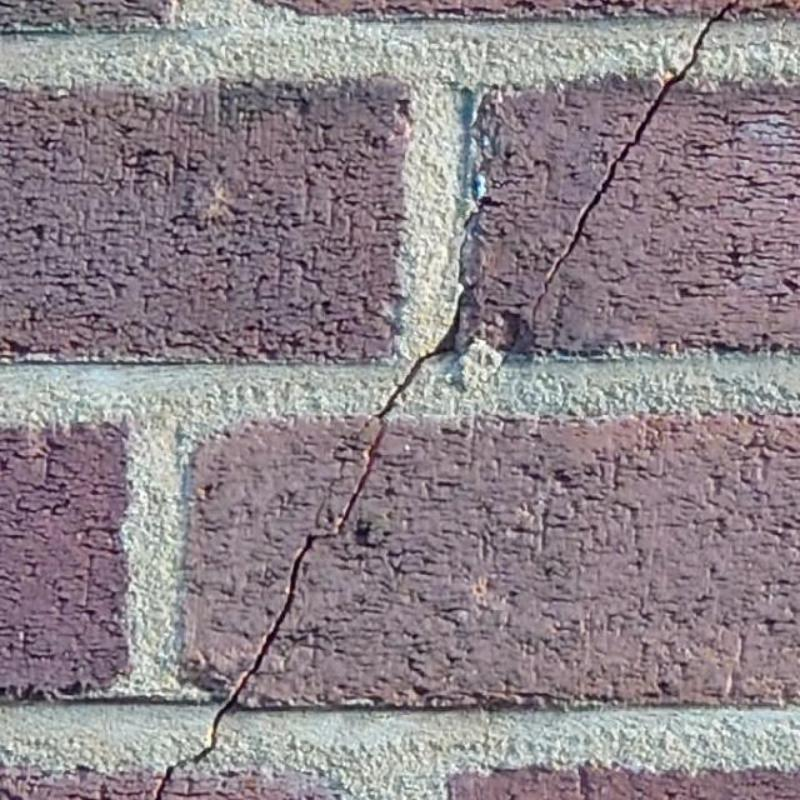pothole: (156, 309, 459, 796), (531, 0, 738, 329), (647, 8, 726, 121)
